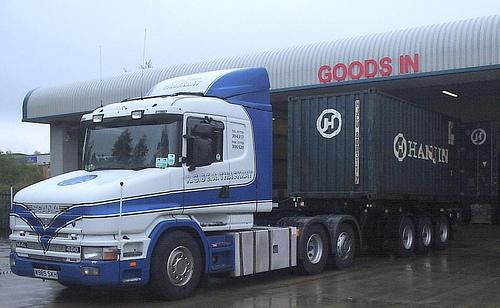truck: (9, 66, 463, 302)
